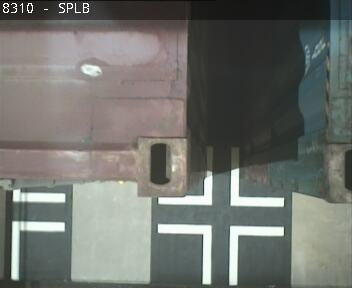groundmarker_1: (157, 146, 284, 207), (157, 224, 284, 285)
